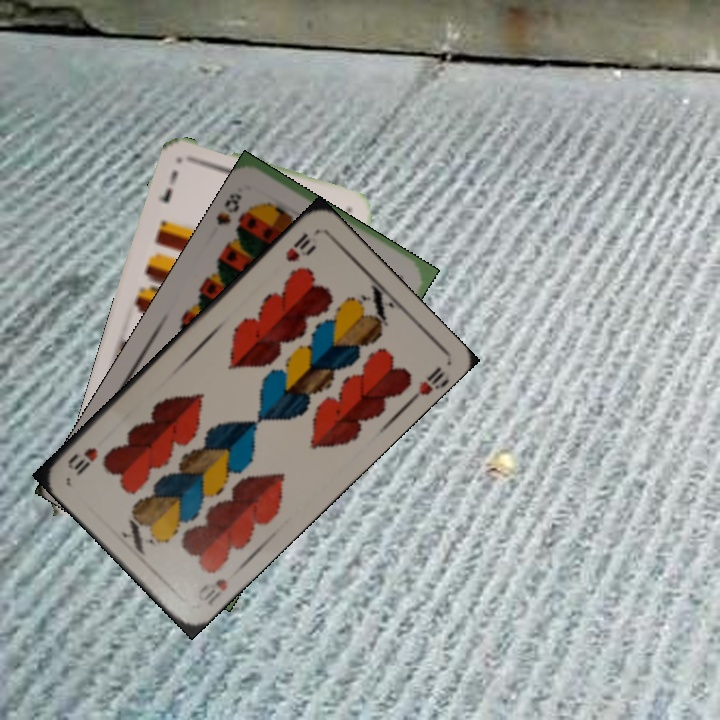E7: (154, 167, 181, 206)
H10: (281, 229, 317, 265), (193, 574, 230, 609)
S8: (212, 189, 244, 228)
